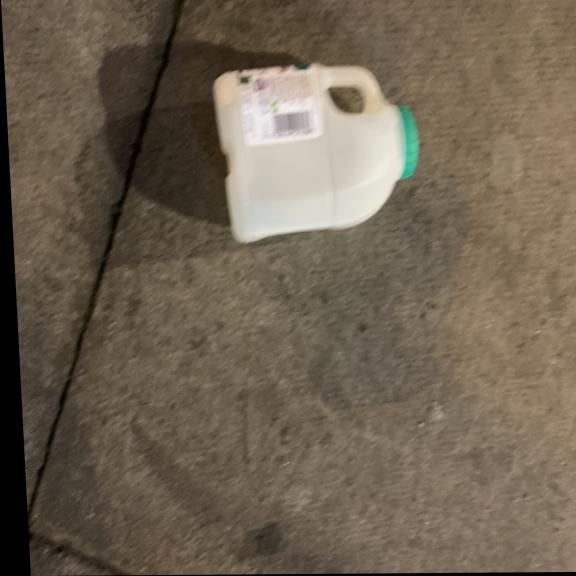Plastik: (201, 59, 429, 250)
